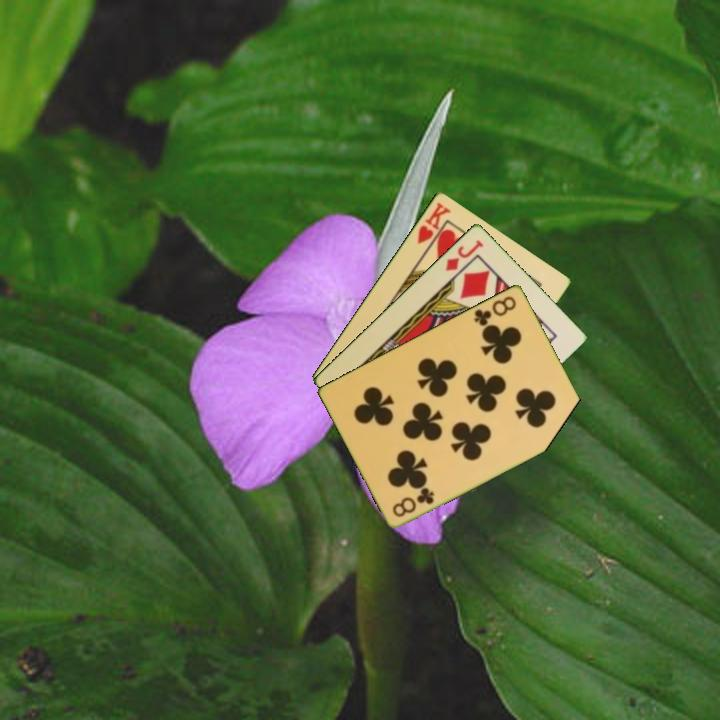8c: (470, 292, 519, 329), (389, 484, 437, 520)
Jd: (441, 236, 486, 274)
Kh: (413, 198, 454, 254)
